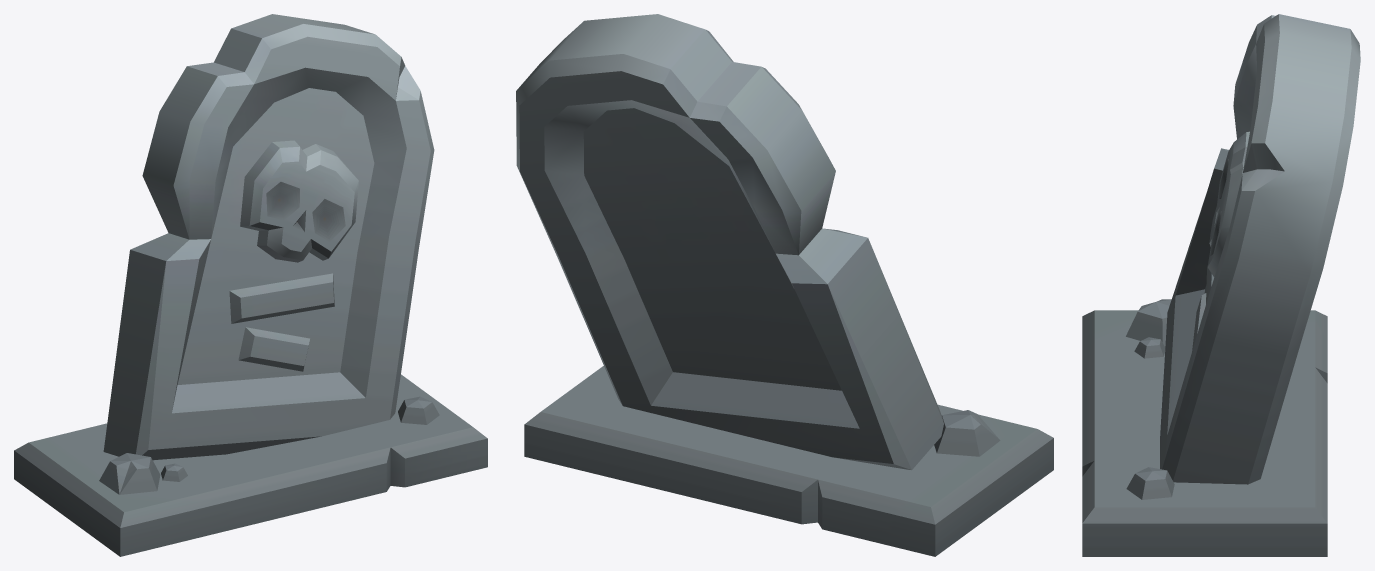
File: KWtVNrHXVR.glb
The picture shows the model from 3 angles, left to right: view 1: azimuth 30°, elevation 25°; view 2: azimuth 150°, elevation 25°; view 3: azimuth 270°, elevation 25°; orthographic projection. The views are drawn at different scales.
Parts seen in each view (by area): view 1: grave_A_destroyed; view 2: grave_A_destroyed; view 3: grave_A_destroyed.
Part boxes in pixels (x1,y1,x2,y2): grave_A_destroyed: [14, 14, 487, 556]; grave_A_destroyed: [516, 14, 1053, 556]; grave_A_destroyed: [1082, 14, 1360, 556].
Size of the model in its own units: 2.08 by 2.11 by 1.14.
1 material, 1 textured.
